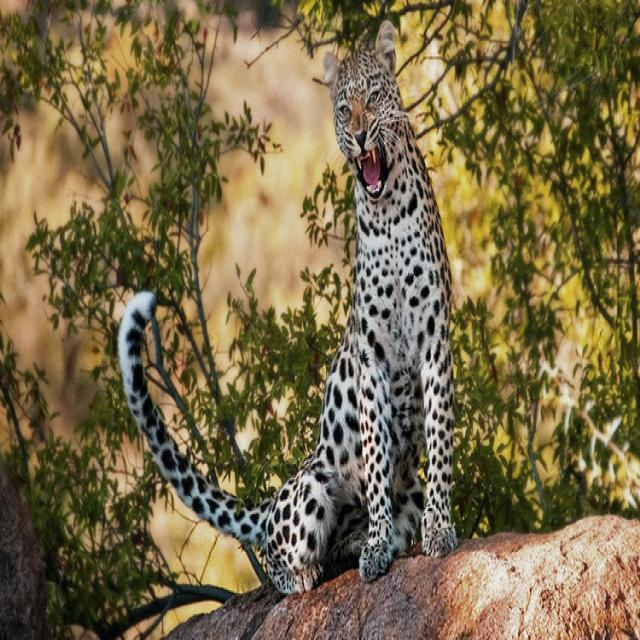Leopard: (112, 22, 460, 592)
